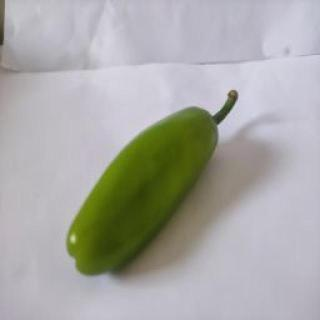Cabai Hijau: (62, 84, 243, 278)
